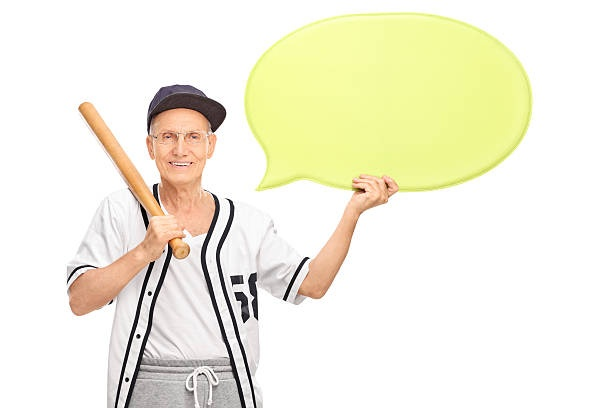bita: (79, 99, 190, 257)
